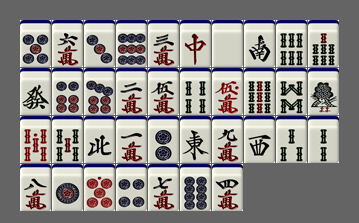0m: (212, 68, 243, 115)
0p: (84, 164, 115, 211)
0s: (20, 116, 51, 163)
1m: (116, 116, 147, 163)
1p: (52, 164, 83, 211)
1s: (308, 68, 339, 115)
1z: (180, 116, 211, 163)
2m: (116, 68, 147, 115)
2p: (148, 116, 179, 163)
2s: (308, 116, 339, 163)
2z: (244, 20, 275, 67)
3m: (148, 20, 179, 67)
3p: (84, 20, 115, 67)
3s: (276, 116, 307, 163)
3z: (244, 116, 275, 163)
4m: (212, 164, 243, 211)
4p: (116, 164, 147, 211)
4s: (180, 68, 211, 115)
4z: (84, 116, 115, 163)
5m: (148, 68, 179, 115)
5p: (20, 20, 51, 67)
5s: (52, 116, 83, 163)
5z: (212, 20, 243, 67)
6m: (52, 20, 83, 67)
6p: (52, 68, 83, 115)
6s: (276, 20, 307, 67)
6z: (20, 68, 51, 115)
7m: (148, 164, 179, 211)
7p: (84, 68, 115, 115)
7s: (308, 20, 339, 67)
7z: (180, 20, 211, 67)
8m: (20, 164, 51, 211)
8p: (180, 164, 211, 211)
8s: (276, 68, 307, 115)
9m: (212, 116, 243, 163)
9p: (116, 20, 147, 67)
9s: (244, 68, 275, 115)
